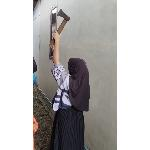Kapak: (48, 7, 74, 47)
